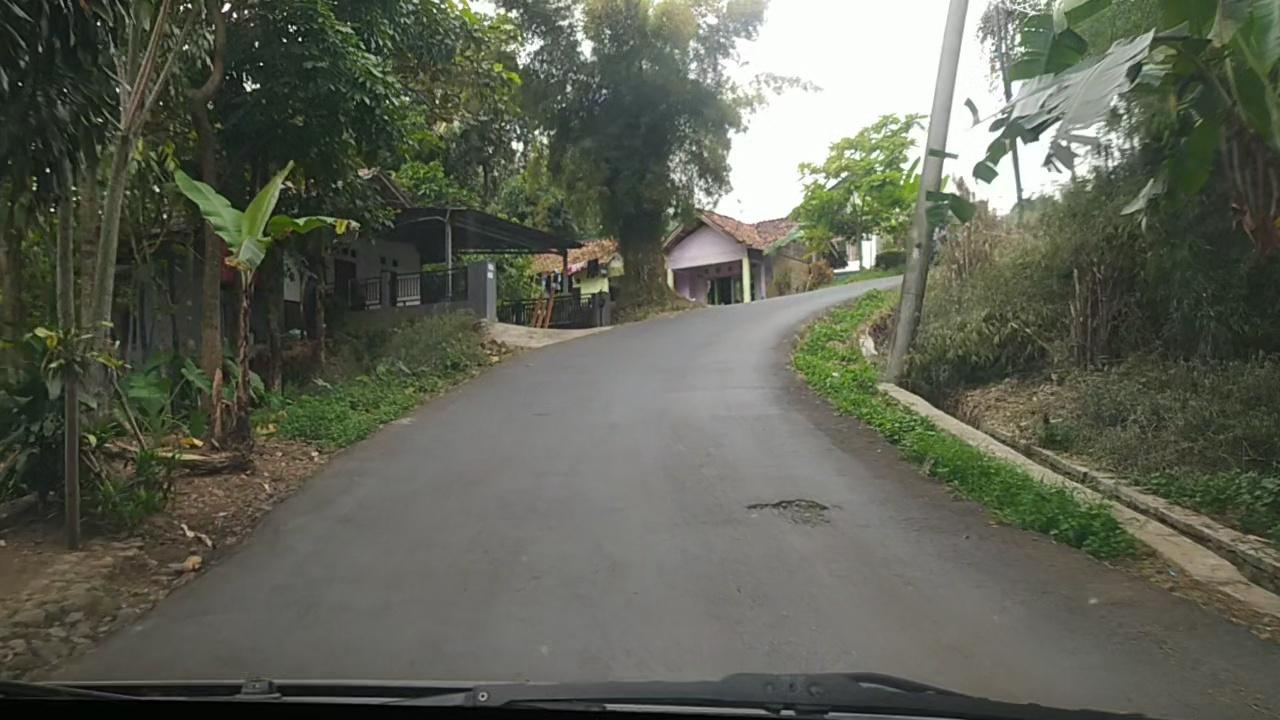pothole: (743, 497, 832, 531)
